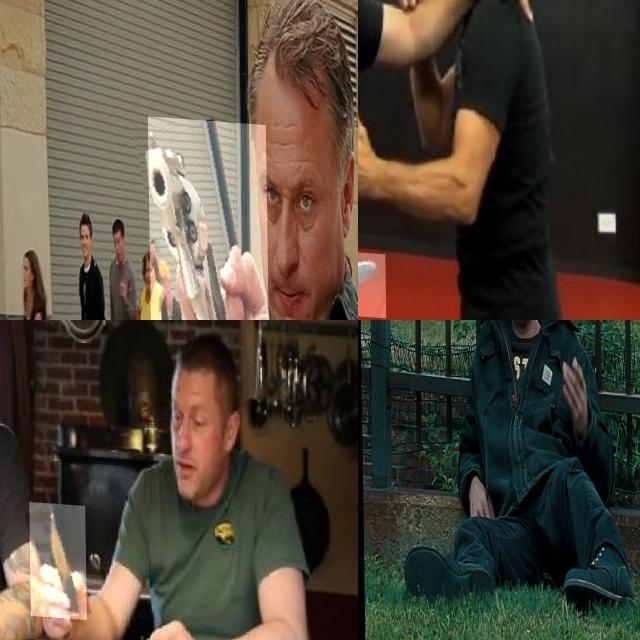-: (28, 497, 86, 615), (358, 244, 405, 314)
gun-knife-thesis - v11 Yolov5 augmented: (147, 113, 270, 320)
